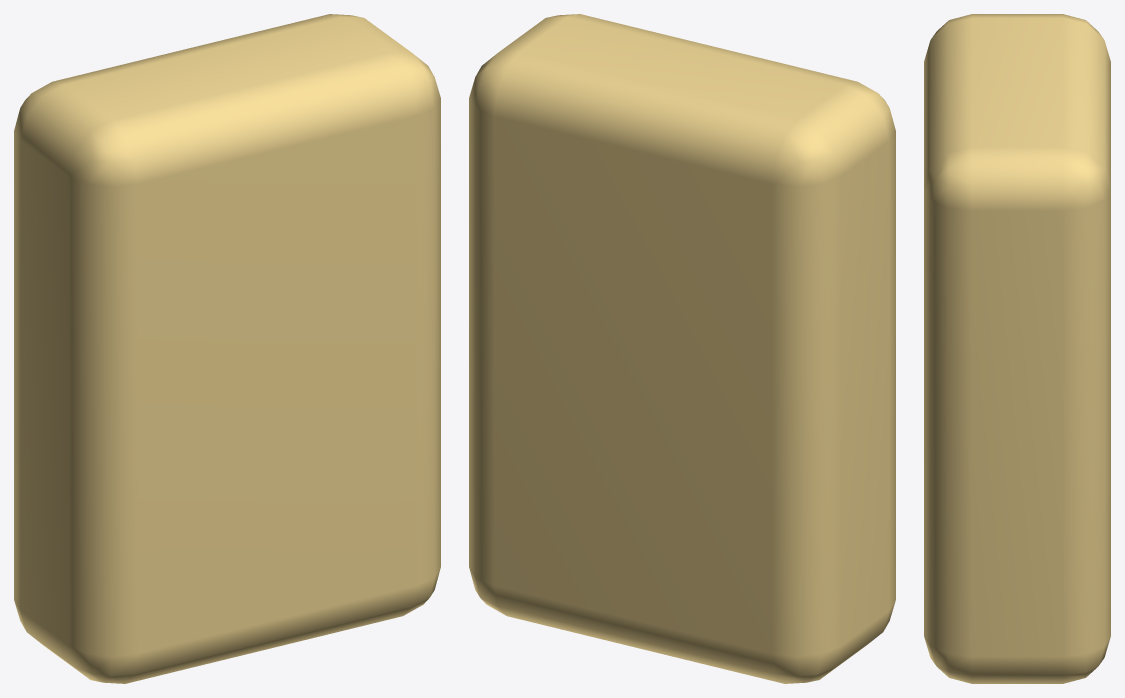
The model's file is Food.fbx.
3 renders of one model, left to right at view 1: azimuth 30°, elevation 25°; view 2: azimuth 150°, elevation 25°; view 3: azimuth 270°, elevation 25°, orthographic. The views are drawn at different scales.
Parts seen in each view (by area): view 1: Food; view 2: Food; view 3: Food.
Boxes of the visible parts, <box> form: Food: <box>14,14,440,683</box>; Food: <box>469,14,895,683</box>; Food: <box>924,14,1110,683</box>.
Bounding box in the file's own units: 15 × 22 × 7.
